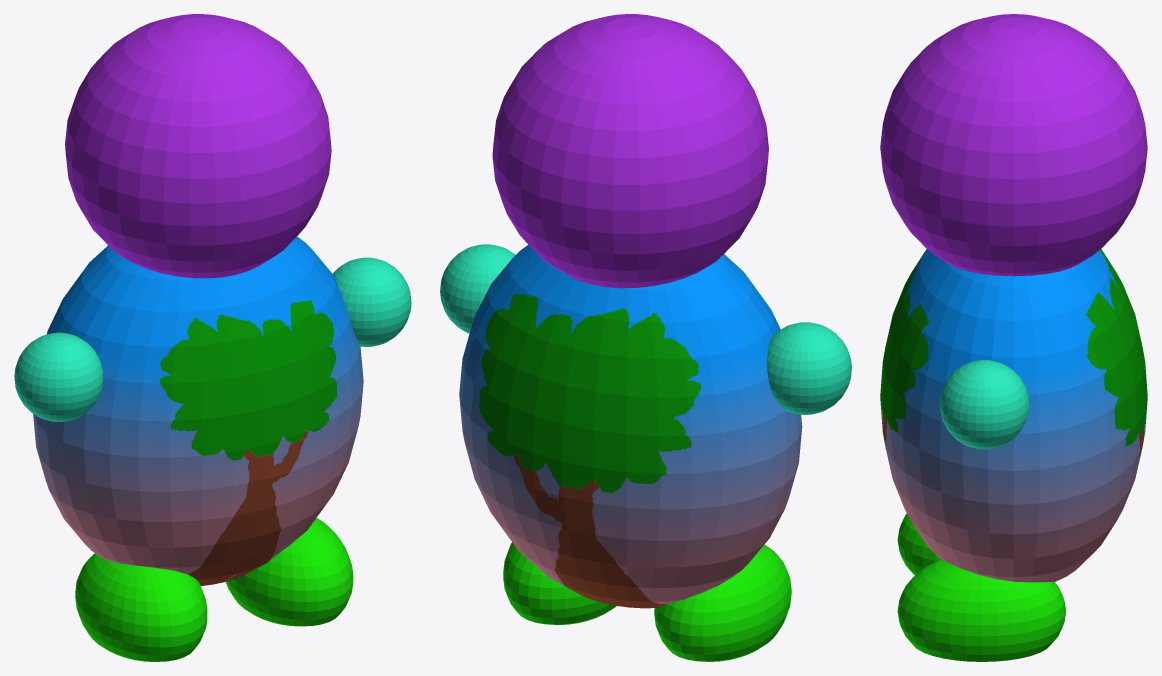
File: player_walk_texture.gltf
The picture shows the model from 3 angles, left to right: view 1: azimuth 30°, elevation 25°; view 2: azimuth 150°, elevation 25°; view 3: azimuth 270°, elevation 25°; orthographic projection. The views are drawn at different scales.
Visible parts, largest first — view 1: Sphere.001, Sphere, Sphere.002, Sphere.003, Sphere.005, Sphere.004; view 2: Sphere.001, Sphere, Sphere.002, Sphere.005, Sphere.003, Sphere.004; view 3: Sphere.001, Sphere, Sphere.003, Sphere.004, Sphere.002.
Part boxes in pixels (x1,y1,x2,y2): Sphere.001: [33, 236, 363, 585]; Sphere: [65, 14, 331, 278]; Sphere.002: [75, 553, 207, 661]; Sphere.003: [226, 518, 353, 626]; Sphere.005: [14, 332, 102, 421]; Sphere.004: [333, 257, 411, 346]; Sphere.001: [459, 244, 802, 608]; Sphere: [492, 14, 768, 288]; Sphere.002: [654, 544, 791, 661]; Sphere.005: [766, 322, 851, 414]; Sphere.003: [503, 542, 616, 624]; Sphere.004: [440, 244, 515, 333]; Sphere.001: [880, 249, 1147, 582]; Sphere: [880, 14, 1147, 276]; Sphere.003: [897, 559, 1066, 661]; Sphere.004: [939, 360, 1029, 449]; Sphere.002: [897, 513, 940, 575].
Size of the model in its own units: 3.33 by 4.83 by 2.
Materials: 4 (1 with a texture image).
